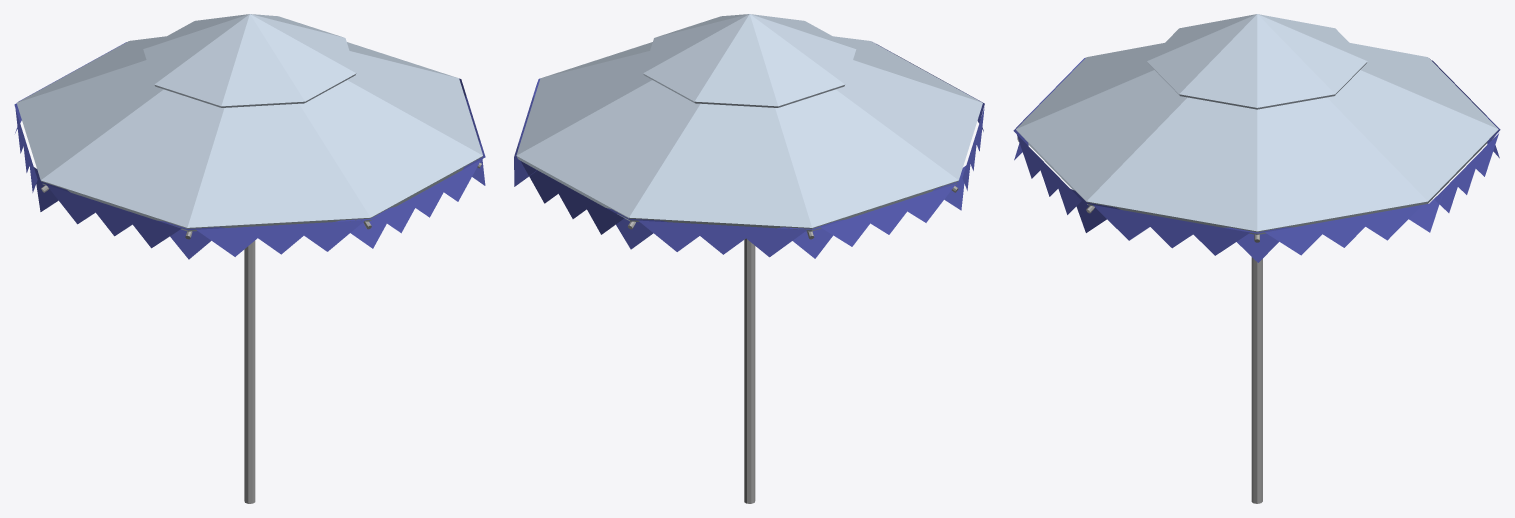
File: parasol.fbx
The picture shows the model from 3 angles, left to right: view 1: azimuth 30°, elevation 25°; view 2: azimuth 150°, elevation 25°; view 3: azimuth 270°, elevation 25°; orthographic projection.
Visible parts, largest first — view 1: Cylinder; view 2: Cylinder; view 3: Cylinder.
Boxes of the visible parts, x1,y1,x2,y2 form: Cylinder: [14, 14, 485, 503]; Cylinder: [514, 14, 984, 503]; Cylinder: [1013, 14, 1500, 503].
Bounding box in the file's own units: 266 × 294 × 266.
